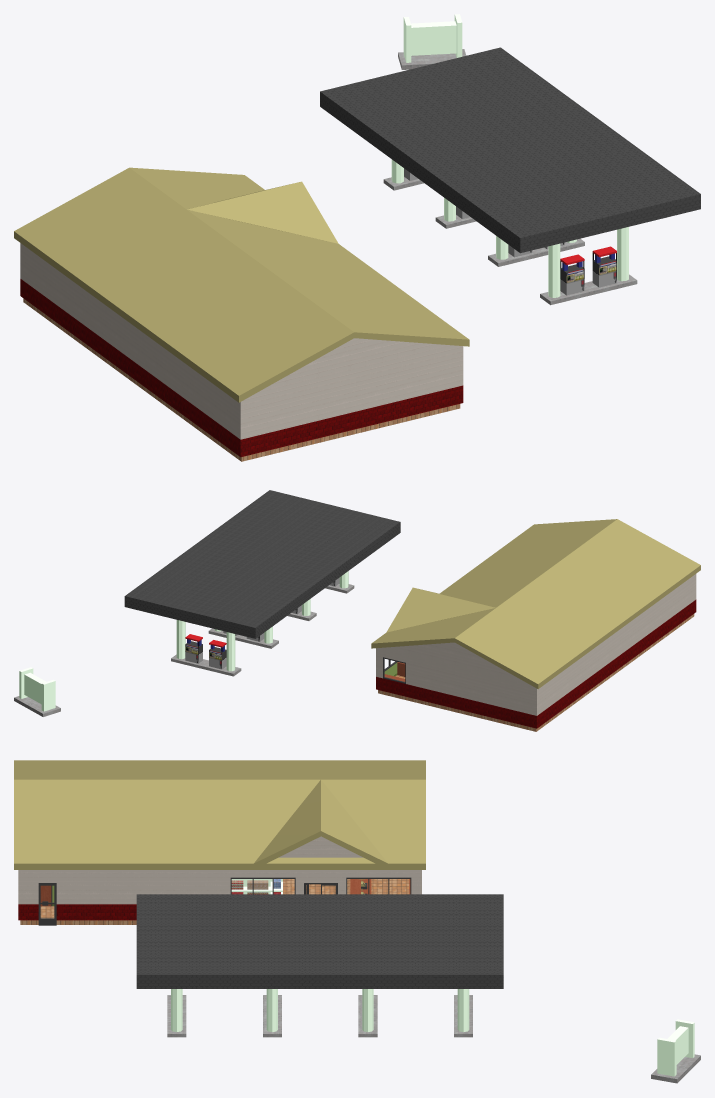
Rendered from GasonlineraCampo.fbx.
3 renders of one model, top to bottom at view 1: azimuth 30°, elevation 25°; view 2: azimuth 150°, elevation 25°; view 3: azimuth 270°, elevation 25°, orthographic. The views are drawn at different scales.
Visible parts, largest first — view 1: GasFeo, GasFeo.001, GasFeo.002; view 2: GasFeo, GasFeo.001, GasFeo.002; view 3: GasFeo, GasFeo.001, GasFeo.002.
Boxes of the visible parts, box(x1,y1,x2,y2) form: GasFeo: box(14, 167, 469, 461); GasFeo.001: box(320, 47, 700, 305); GasFeo.002: box(398, 14, 466, 69); GasFeo: box(371, 519, 700, 731); GasFeo.001: box(124, 490, 400, 676); GasFeo.002: box(14, 667, 60, 716); GasFeo: box(14, 760, 425, 925); GasFeo.001: box(136, 894, 503, 1037); GasFeo.002: box(651, 1019, 700, 1083).
Bounding box in the file's own units: 12071 × 2070 × 13349.
58 materials, 52 textured.
